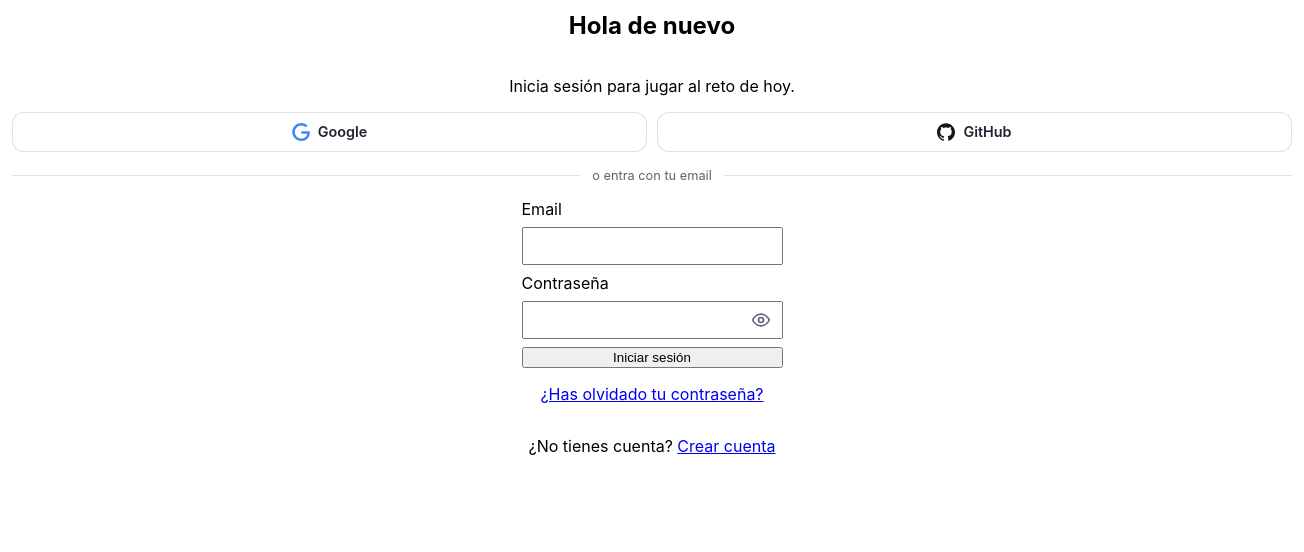
Test: LogInForm › shows the message for wrong credentials
Type "ana@example.com" into the field labelled "Email". click: (652, 246)
box: [522,227,782,265]
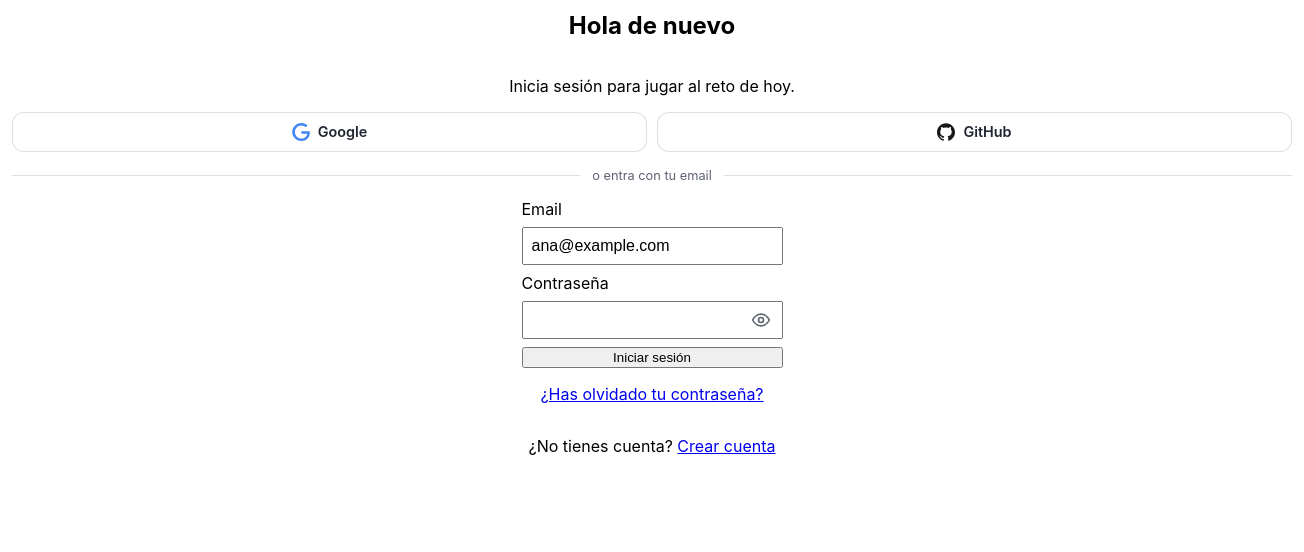
Type "wrong-password" into the password field labelled "Contraseña". click: (652, 320)
box: [522,301,782,339]
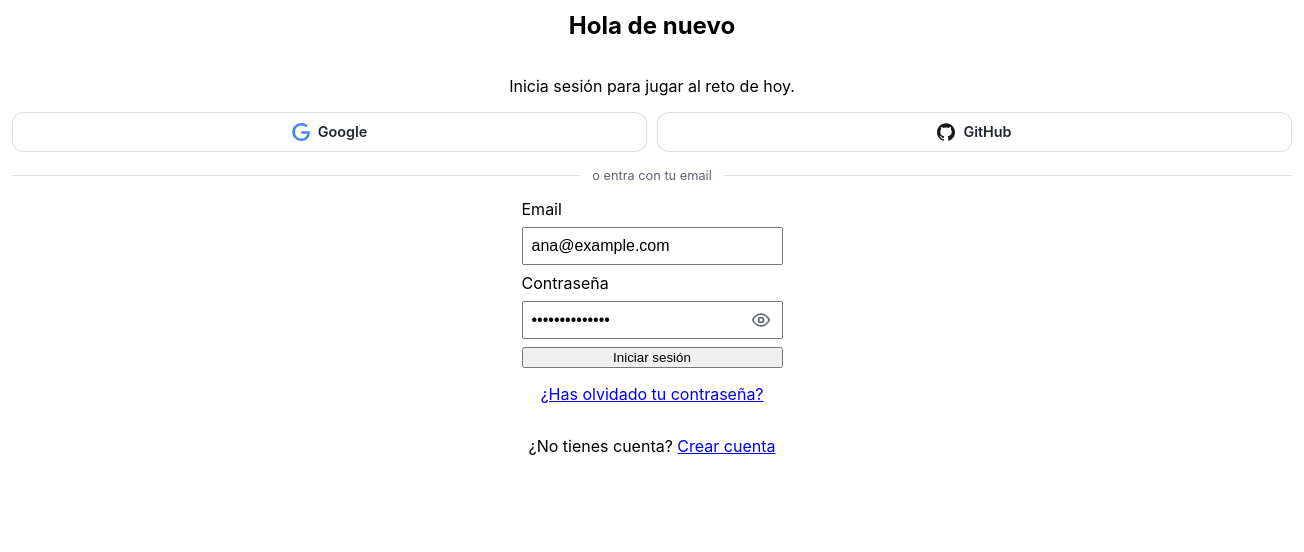
Click the button "Iniciar sesión". click: (652, 357)
box: [522,347,782,368]
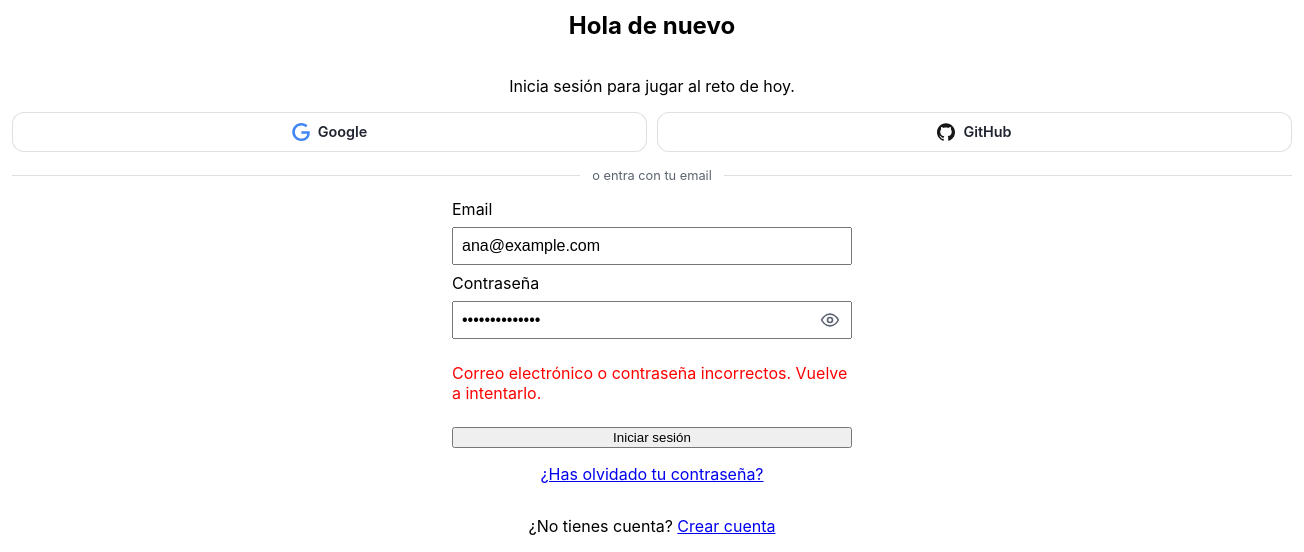
Result: the message reads "Correo electrónico o contraseña incorrectos. Vuelve a intentarlo." at [452,363,847,403]
